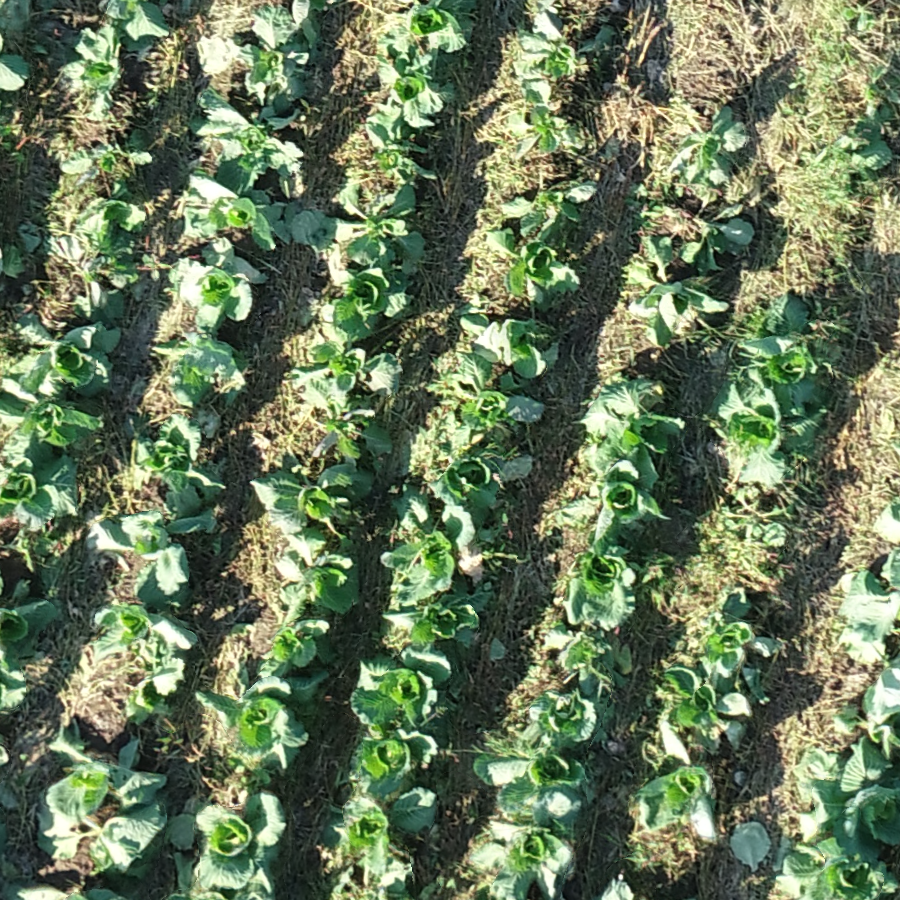Cabbage: (90, 565, 198, 691), (712, 367, 826, 485), (792, 738, 900, 862), (200, 672, 327, 776), (624, 235, 732, 352), (550, 445, 665, 552), (665, 596, 781, 700), (44, 725, 170, 819), (192, 89, 304, 193), (89, 510, 220, 596), (380, 489, 472, 611), (253, 462, 377, 552), (168, 795, 284, 891), (573, 379, 682, 481), (736, 289, 824, 415), (35, 801, 167, 884), (638, 719, 720, 842), (425, 349, 544, 431), (317, 186, 424, 272), (8, 317, 120, 396), (430, 444, 528, 534), (172, 238, 264, 333), (467, 820, 576, 900), (130, 412, 226, 502), (325, 788, 439, 861), (664, 662, 754, 754), (45, 234, 139, 322), (354, 646, 452, 729), (228, 6, 309, 106), (476, 749, 585, 823), (510, 10, 614, 87), (0, 430, 78, 532), (667, 106, 751, 200), (776, 837, 900, 900), (321, 262, 415, 345), (486, 223, 578, 307), (291, 342, 405, 405), (0, 377, 101, 448), (274, 527, 358, 610), (363, 40, 445, 125), (257, 588, 333, 679), (184, 181, 282, 249), (152, 333, 241, 407), (51, 28, 123, 119), (351, 726, 435, 803), (461, 312, 556, 377), (502, 180, 598, 242), (548, 628, 634, 697), (379, 593, 490, 646), (508, 83, 585, 159), (681, 196, 755, 274), (559, 552, 633, 628), (0, 573, 52, 671), (58, 145, 152, 199), (377, 1, 476, 52), (315, 398, 393, 461), (366, 122, 438, 182), (75, 197, 148, 256), (527, 689, 605, 744), (103, 0, 169, 52)
